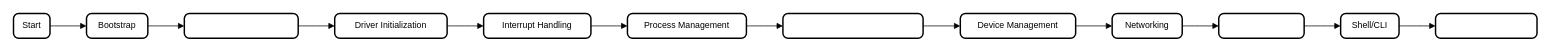
This 1550x51 diagram has some shape labels left out. Here are the shapes that lost their labels. From the top down, the box of each, then its label:
(183, 12, 299, 39): Kernel Initialization
(782, 12, 923, 39): File System Management
(1218, 12, 1305, 39): User Interface
(1434, 12, 1537, 39): User Applications
